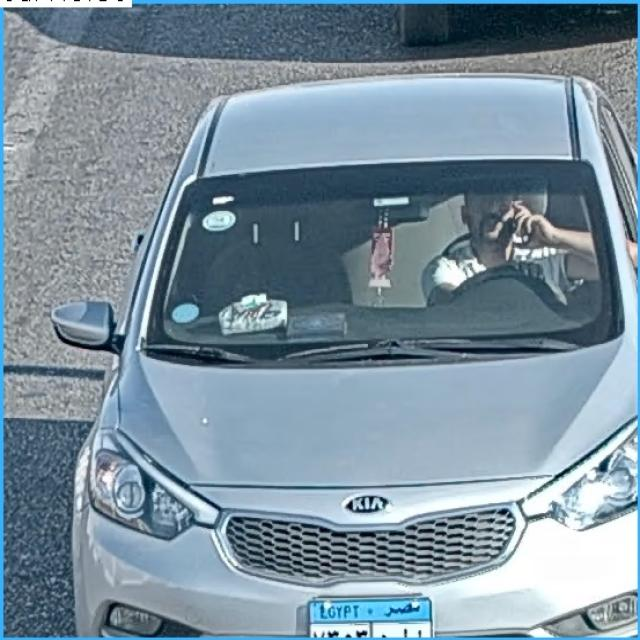windshield: (146, 168, 620, 354)
